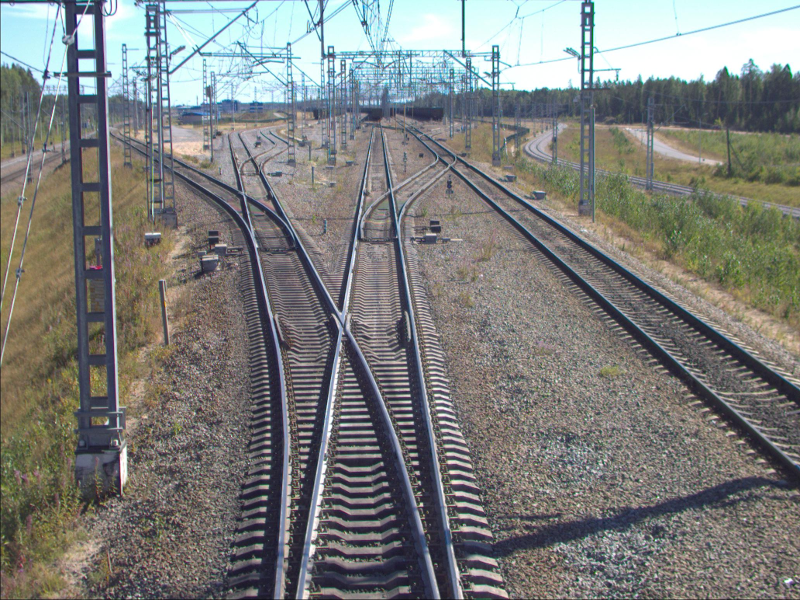left: (354, 211, 415, 254)
right: (238, 216, 315, 254)
